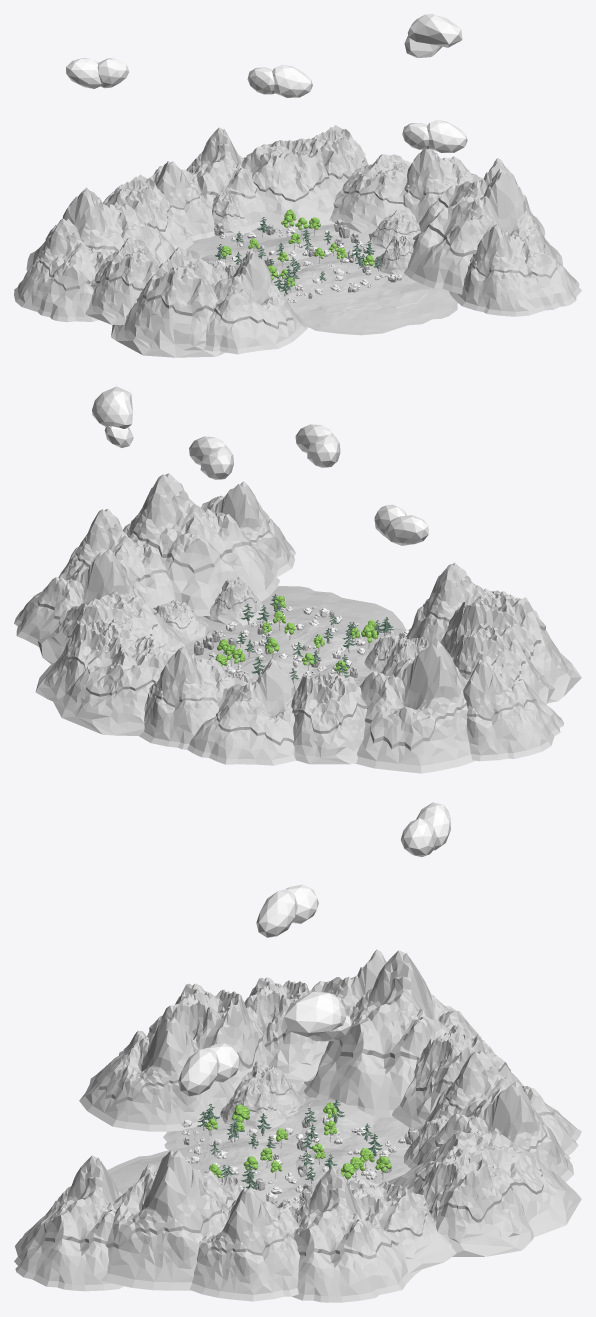
Rendered from Low Poly Landschap.glb.
The picture shows the model from 3 angles, top to bottom: view 1: azimuth 30°, elevation 25°; view 2: azimuth 150°, elevation 25°; view 3: azimuth 270°, elevation 25°; orthographic projection. The views are drawn at different scales.
Parts seen in each view (by area): view 1: PP_Forest_Mountain_Moss_02_5, PP_Forest_Mountain_Moss_01_6, PP_Forest_Mountain_Moss_01_4, PP_Forest_Mountain_Moss_01, PP_Forest_Mountain_Moss_02_3, PP_Forest_Mountain_Moss_01_2, PP_Forest_Mountain_Moss_01_4.005, PP_Forest_Mountain_Moss_02_2, PP_Forest_Mountain_Moss_01_8, PP_Forest_Mountain_Moss_02_9, PP_Forest_Mountain_Moss_01_3, PP_Forest_Mountain_Moss_01_4.001 (+19 smaller); view 2: PP_Forest_Mountain_Moss_01_8, PP_Forest_Mountain_Moss_01_6, PP_Forest_Mountain_Moss_01_1, PP_Forest_Mountain_Moss_02_3, PP_Forest_Mountain_Moss_01_2, PP_Forest_Mountain_Moss_02_10, PP_Forest_Mountain_Moss_01_3, PP_Forest_Mountain_Moss_02_5, PP_Forest_Mountain_Moss_01_7, PP_Forest_Mountain_Moss_01_5, PP_Forest_Mountain_Moss_02_2, PP_Forest_Mountain_Moss_02_9 (+18 smaller); view 3: PP_Forest_Mountain_Moss_01_8, PP_Forest_Mountain_Moss_01_6, PP_Forest_Mountain_Moss_01_7, PP_Forest_Mountain_Moss_01, PP_Forest_Mountain_Moss_01_4, PP_Forest_Mountain_Moss_01_5, PP_Forest_Mountain_Moss_02_1, PP_Forest_Mountain_Moss_02_3, PP_Forest_Mountain_Moss_02_5, PP_Forest_Mountain_Moss_01_3, PP_Forest_Mountain_Moss_02_2, PP_Forest_Mountain_Moss_02_10 (+18 smaller).
Part boxes in pixels (x1=…): PP_Forest_Mountain_Moss_02_5: x1=111, y1=247, x2=225, y2=357; PP_Forest_Mountain_Moss_01_6: x1=404, y1=168, x2=562, y2=294; PP_Forest_Mountain_Moss_01_4: x1=449, y1=222, x2=581, y2=316; PP_Forest_Mountain_Moss_01: x1=204, y1=250, x2=306, y2=354; PP_Forest_Mountain_Moss_02_3: x1=241, y1=138, x2=336, y2=229; PP_Forest_Mountain_Moss_01_2: x1=14, y1=218, x2=106, y2=322; PP_Forest_Mountain_Moss_01_4.005: x1=296, y1=275, x2=458, y2=335; PP_Forest_Mountain_Moss_02_2: x1=329, y1=154, x2=416, y2=233; PP_Forest_Mountain_Moss_01_8: x1=26, y1=187, x2=175, y2=271; PP_Forest_Mountain_Moss_02_9: x1=85, y1=237, x2=162, y2=324; PP_Forest_Mountain_Moss_01_3: x1=186, y1=127, x2=266, y2=229; PP_Forest_Mountain_Moss_01_4.001: x1=272, y1=254, x2=387, y2=305; PP_Forest_Mountain_Moss_01_8: x1=354, y1=640, x2=475, y2=773; PP_Forest_Mountain_Moss_01_6: x1=123, y1=473, x2=279, y2=616; PP_Forest_Mountain_Moss_01_1: x1=187, y1=659, x2=295, y2=765; PP_Forest_Mountain_Moss_02_3: x1=53, y1=630, x2=177, y2=735; PP_Forest_Mountain_Moss_01_2: x1=463, y1=659, x2=564, y2=761; PP_Forest_Mountain_Moss_02_10: x1=291, y1=672, x2=367, y2=764; PP_Forest_Mountain_Moss_01_3: x1=139, y1=645, x2=247, y2=749; PP_Forest_Mountain_Moss_02_5: x1=440, y1=591, x2=581, y2=703; PP_Forest_Mountain_Moss_01_7: x1=14, y1=549, x2=143, y2=647; PP_Forest_Mountain_Moss_01_5: x1=58, y1=508, x2=175, y2=607; PP_Forest_Mountain_Moss_02_2: x1=37, y1=591, x2=192, y2=664; PP_Forest_Mountain_Moss_02_9: x1=448, y1=624, x2=554, y2=704; PP_Forest_Mountain_Moss_01_8: x1=303, y1=950, x2=494, y2=1117; PP_Forest_Mountain_Moss_01_6: x1=100, y1=1150, x2=234, y2=1290; PP_Forest_Mountain_Moss_01_7: x1=292, y1=1167, x2=421, y2=1302; PP_Forest_Mountain_Moss_01: x1=79, y1=1017, x2=234, y2=1131; PP_Forest_Mountain_Moss_01_4: x1=14, y1=1155, x2=123, y2=1291; PP_Forest_Mountain_Moss_01_5: x1=190, y1=1186, x2=299, y2=1301; PP_Forest_Mountain_Moss_02_1: x1=416, y1=1148, x2=533, y2=1256; PP_Forest_Mountain_Moss_02_3: x1=388, y1=1127, x2=581, y2=1237; PP_Forest_Mountain_Moss_02_5: x1=147, y1=983, x2=302, y2=1091; PP_Forest_Mountain_Moss_01_3: x1=408, y1=1081, x2=573, y2=1181; PP_Forest_Mountain_Moss_02_2: x1=348, y1=1179, x2=456, y2=1273; PP_Forest_Mountain_Moss_02_10: x1=391, y1=1025, x2=522, y2=1129.
Bounding box in the file's own units: 693 × 304 × 560.
